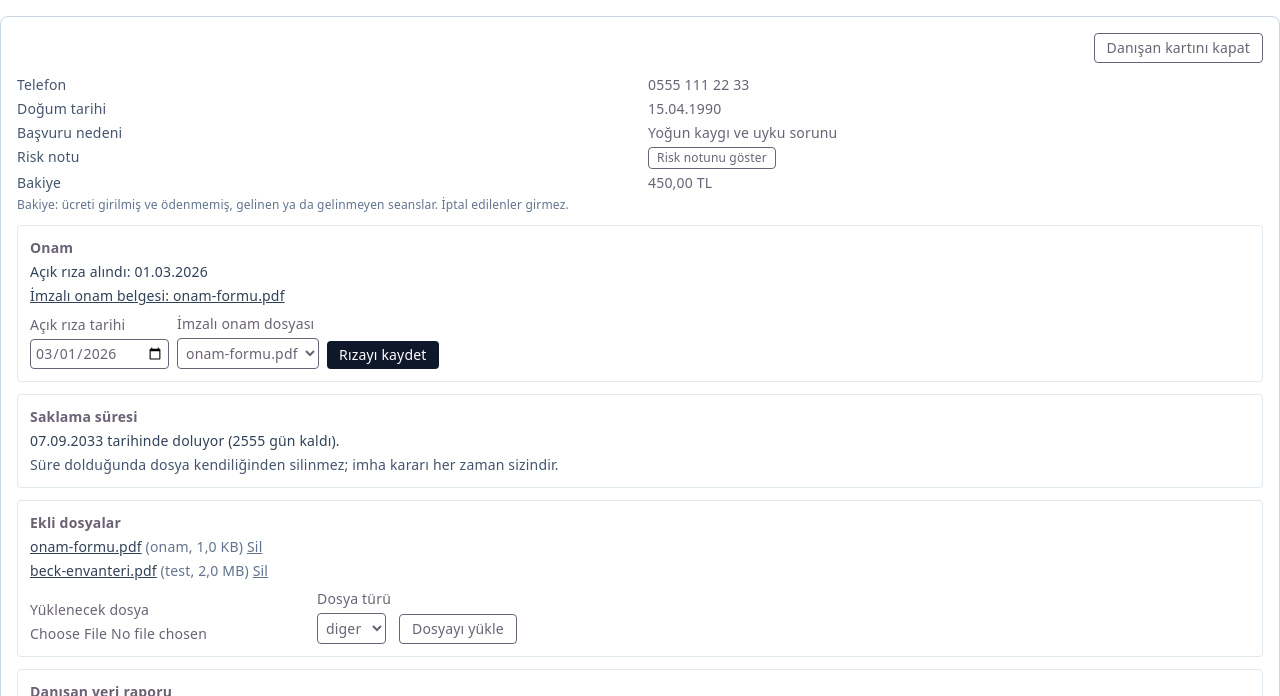
Test case: DosyaBilgileri — ek silme (dal incelemesi: DELETE /api/ekler/{id}) › silme basarisiz olursa hata GORUNUR ve onay acik kalir
The image size is (1280, 696).
What coordinates should you click on to do the following:
click the button with aria-label "onam-formu.pdf dosyasını sil"
I would click on:
 (255, 547)
Its box is [247,537,262,557].
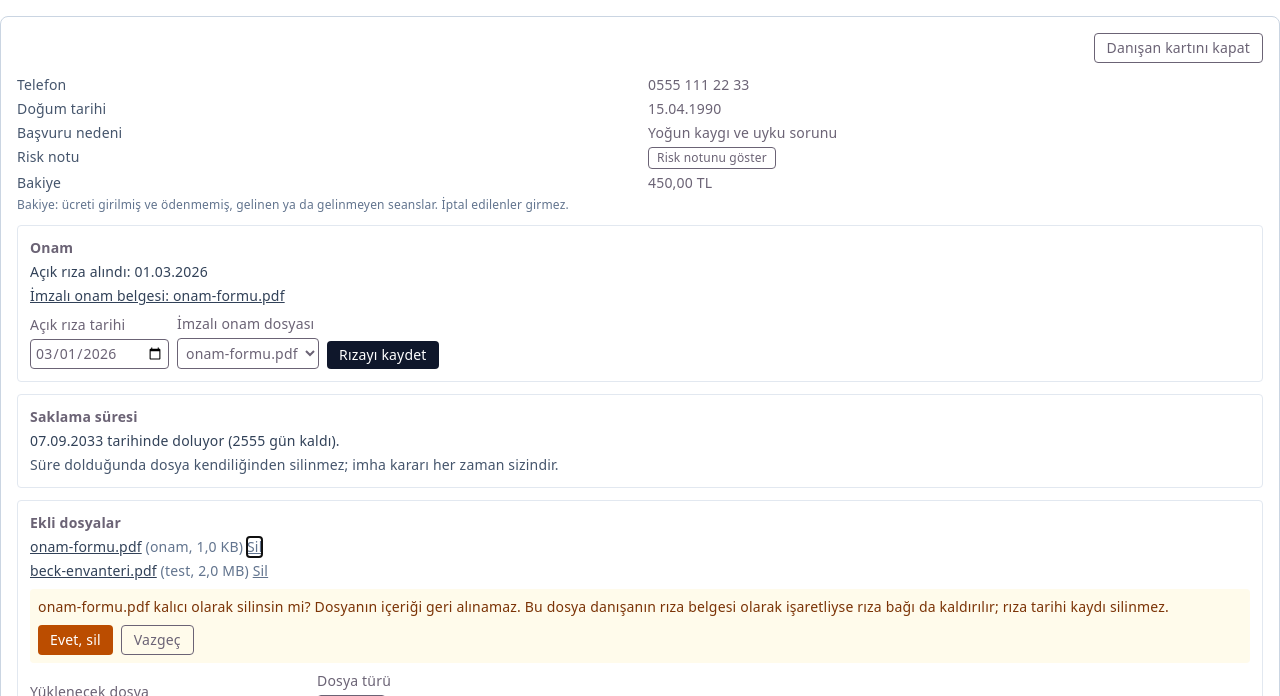
What coordinates should you click on to do the following:
click the button "Evet, sil"
I would click on:
 (75, 640)
Its box is [38,625,113,655].
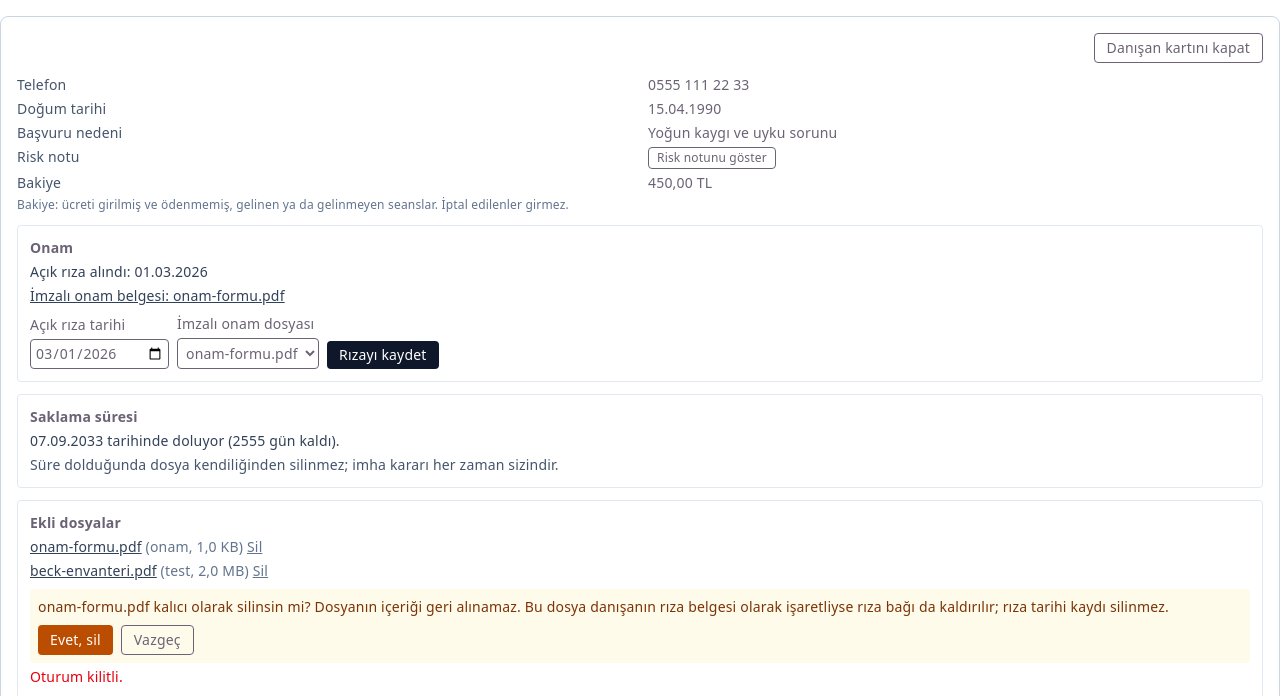
Expected: the button "Evet, sil" is shown, [38,625,113,655]
Expected: the message reads "Oturum kilitli.", [30,667,123,686]
